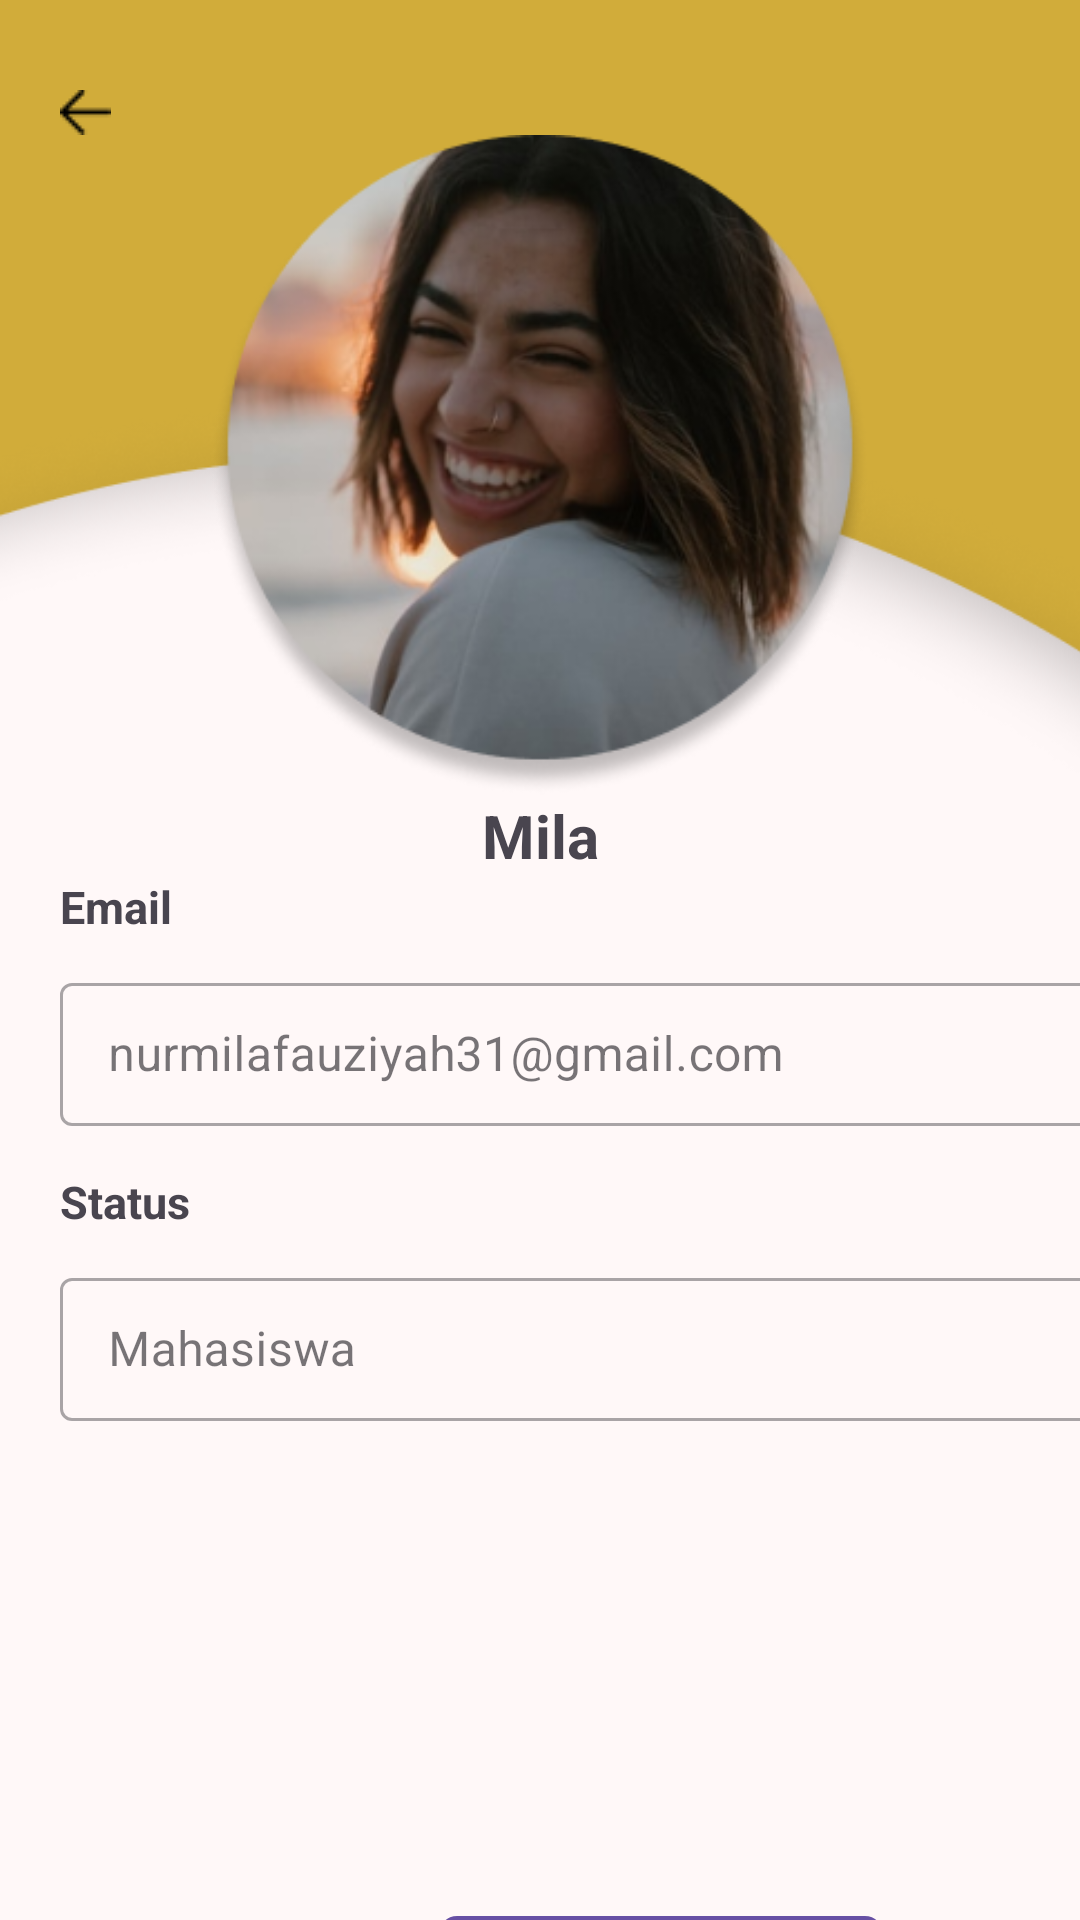

Screen size 1080x1920. Icon name, then its center in pixels as (x,y):
back: (85,112)
